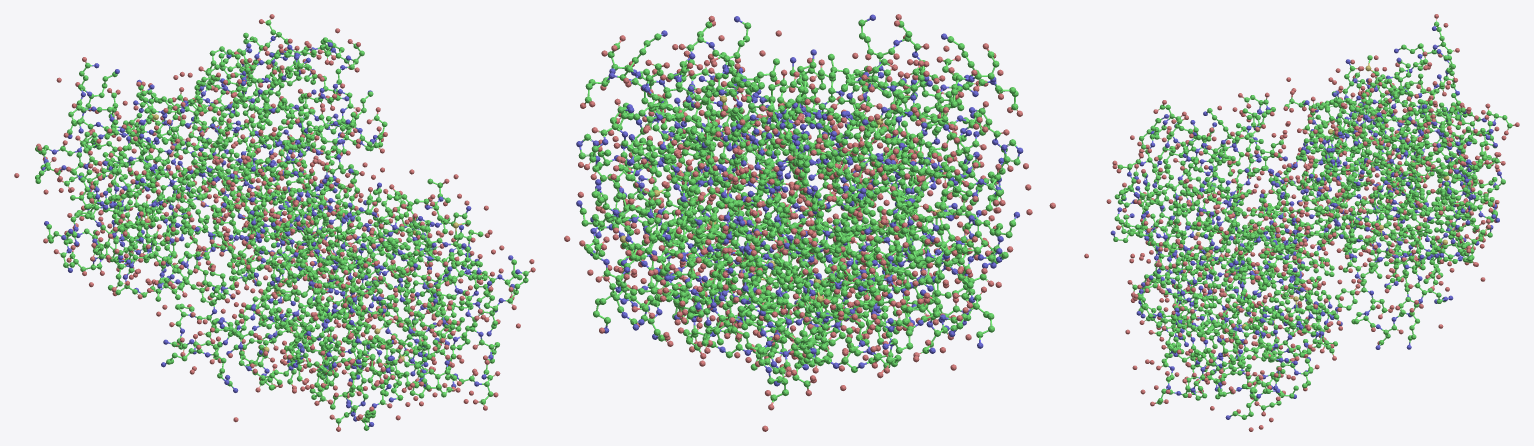
The model's file is 1gfl__ball_and_stick__default.glb.
3 renders of one model, left to right at view 1: azimuth 30°, elevation 25°; view 2: azimuth 150°, elevation 25°; view 3: azimuth 270°, elevation 25°, orthographic. The views are drawn at different scales.
Parts seen in each view (by area): view 1: Renderer Node; view 2: Renderer Node; view 3: Renderer Node.
Boxes of the visible parts, x1,y1,x2,y2 form: Renderer Node: (14,14,535,431); Renderer Node: (564,14,1055,431); Renderer Node: (1084,14,1519,431).
Size of the model in its own units: 61.93 by 54.35 by 67.59.
